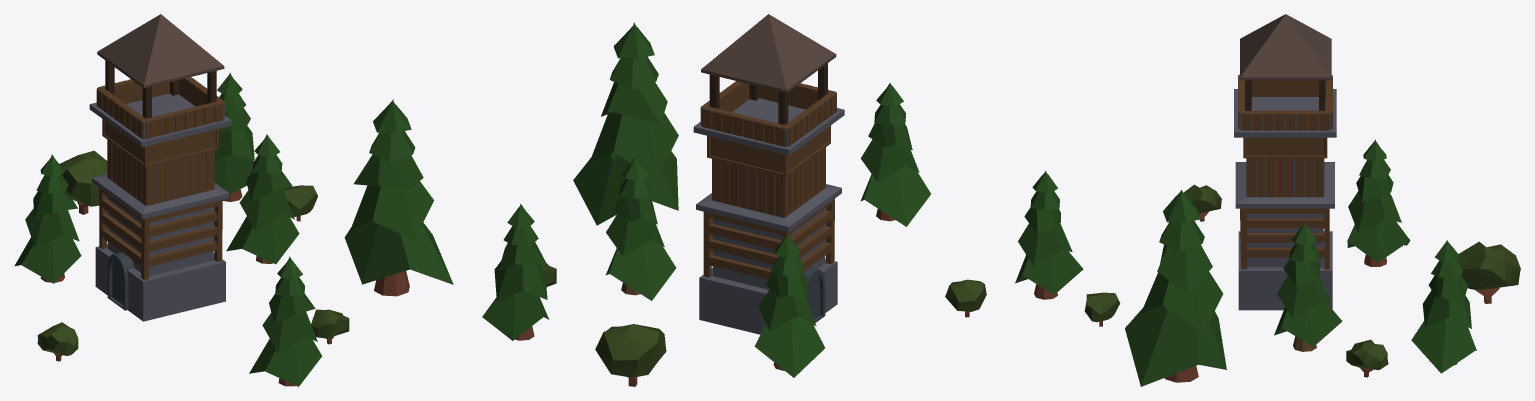
File: ArsenalLVL2.fbx
The picture shows the model from 3 angles, left to right: view 1: azimuth 30°, elevation 25°; view 2: azimuth 150°, elevation 25°; view 3: azimuth 270°, elevation 25°; orthographic projection. The views are drawn at different scales.
Visible parts, largest first — view 1: ель.004, Cube.004, Cube.007, ель.002, ель.001, Cube, ель.005, ель.003, Cube.038, Cube.003, куст.003, Cube.001 (+8 smaller); view 2: Cube.004, ель.004, Cube.007, ель.001, ель.002, ель.005, ель.003, Cube, Cube.039, куст.003, Cube.006, Cube.037 (+6 smaller); view 3: ель.004, Cube.004, Cube.007, ель.003, ель.002, ель.001, ель.005, Cube.036, Cube, куст.003, Cube.002, Cube.051 (+4 smaller).
Part boxes in pixels (x1,y1,x2,y2): ель.004: [344, 99, 453, 296]; Cube.004: [89, 77, 231, 276]; Cube.007: [97, 14, 224, 88]; ель.002: [249, 256, 321, 386]; ель.001: [226, 134, 299, 264]; Cube: [95, 244, 225, 321]; ель.005: [14, 154, 81, 283]; ель.003: [214, 72, 254, 201]; Cube.038: [146, 150, 213, 205]; Cube.003: [149, 211, 217, 266]; куст.003: [59, 150, 107, 214]; Cube.001: [99, 188, 222, 279]; Cube.004: [693, 81, 844, 289]; ель.004: [573, 22, 678, 225]; Cube.007: [701, 14, 836, 93]; ель.001: [606, 157, 676, 300]; ель.002: [860, 83, 930, 226]; ель.005: [754, 234, 824, 377]; ель.003: [482, 203, 549, 340]; Cube: [699, 259, 837, 334]; Cube.039: [712, 159, 783, 217]; куст.003: [595, 324, 666, 386]; Cube.006: [708, 223, 781, 279]; Cube.037: [784, 147, 825, 217]; ель.004: [1125, 190, 1226, 386]; Cube.004: [1234, 74, 1336, 267]; Cube.007: [1240, 14, 1331, 80]; ель.003: [1411, 240, 1476, 373]; ель.002: [1015, 171, 1083, 299]; ель.001: [1274, 223, 1342, 351]; ель.005: [1347, 139, 1410, 266]; Cube.036: [1247, 158, 1323, 197]; Cube: [1238, 231, 1332, 310]; куст.003: [1456, 241, 1520, 303]; Cube.002: [1246, 218, 1324, 257]; Cube.051: [1241, 113, 1329, 130].
Bounding box in the file's own units: 716 × 496 × 818.
